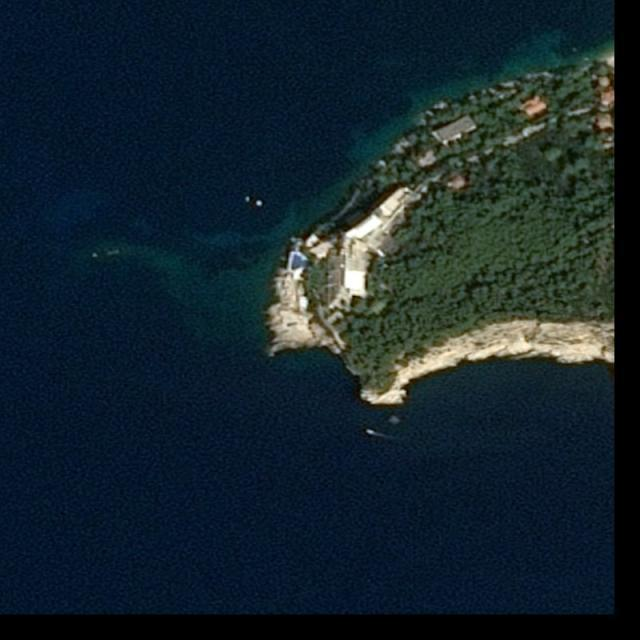ship: (366, 427, 375, 438)
